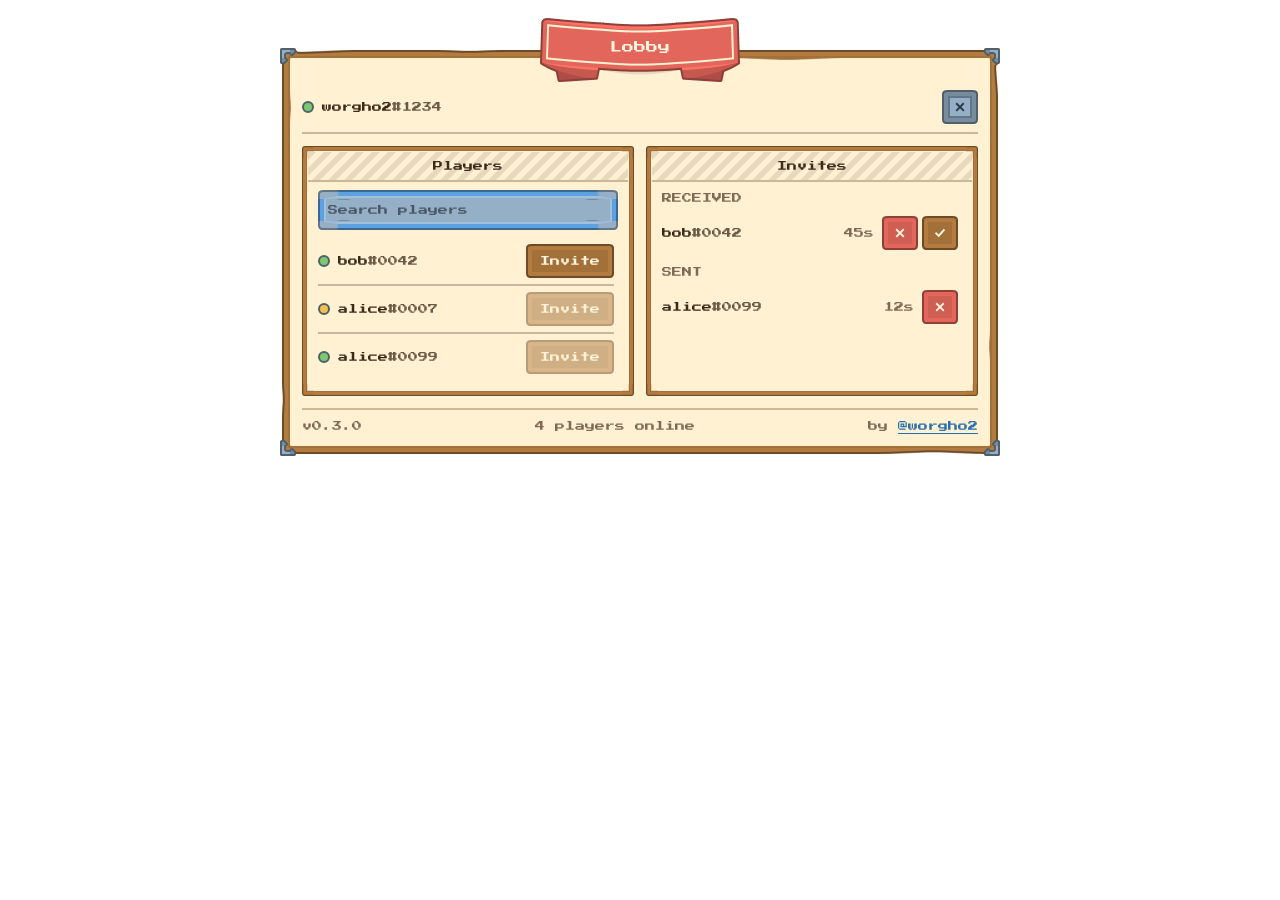
LobbyScreen › clicking a card opens a confirmation; confirming invites that player and closes it
Click the button named "bob#0042" at [418, 261], box [318,249,518,273]
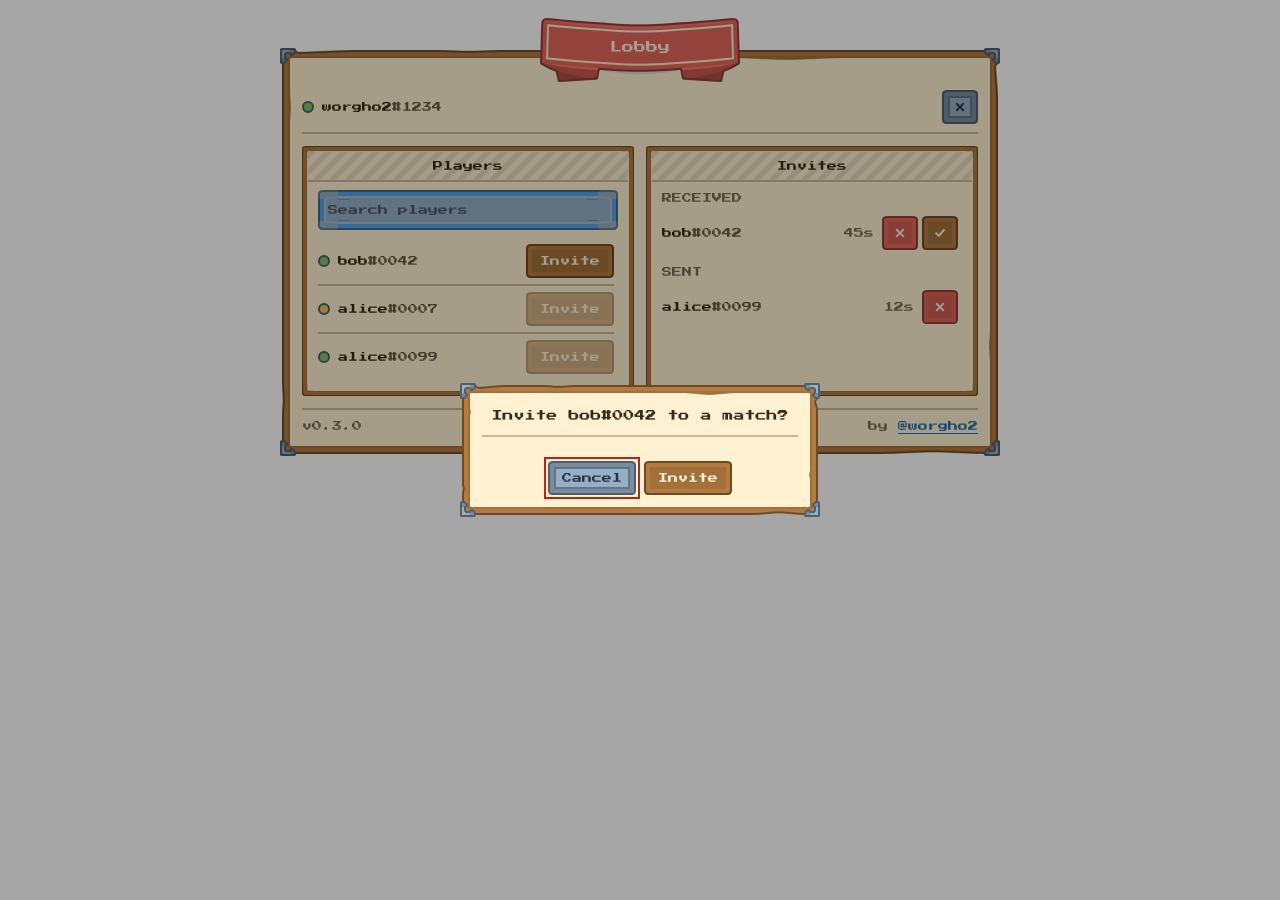
Click the button "Invite" at [688, 478], box [644,461,732,495]
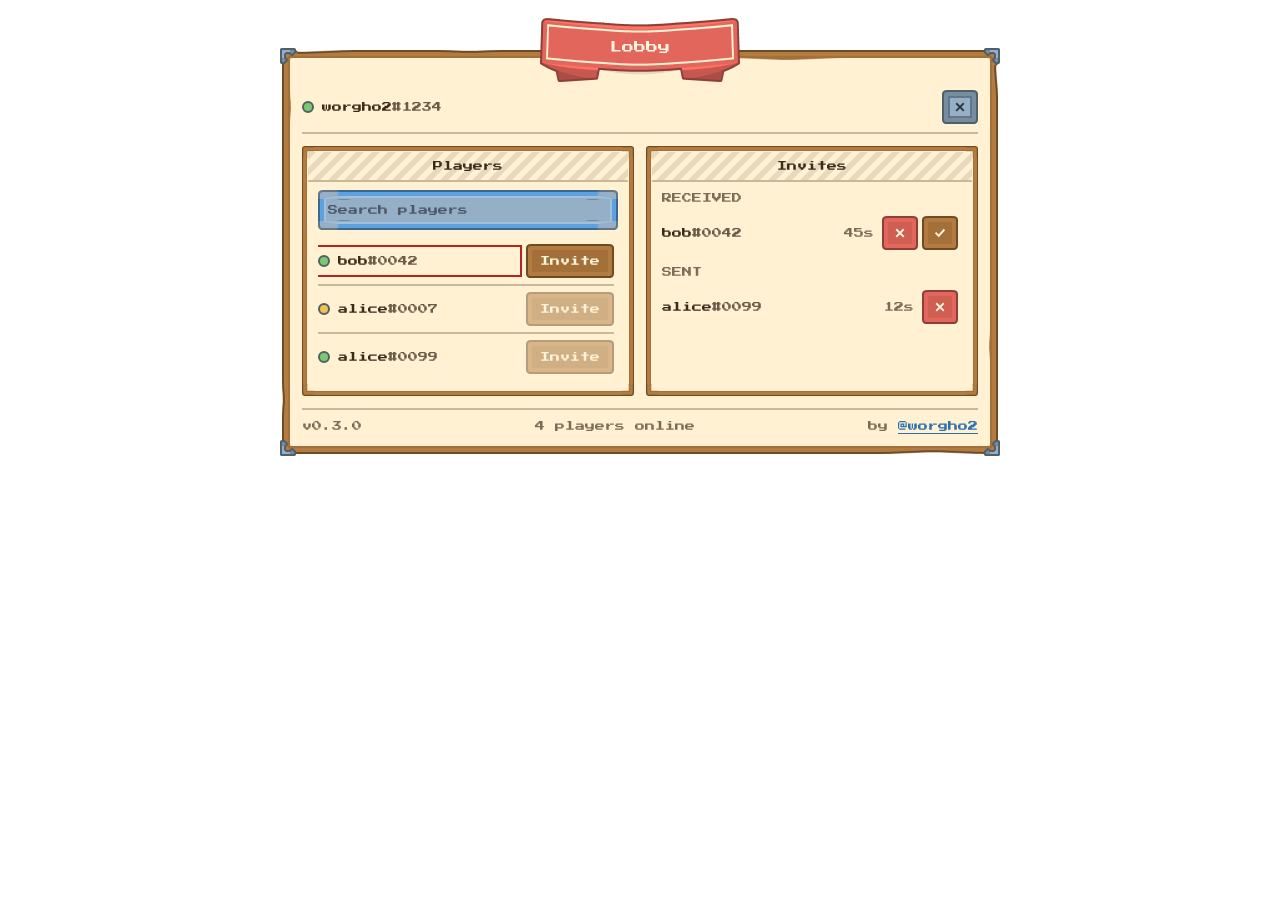
Result: the dialog is gone
